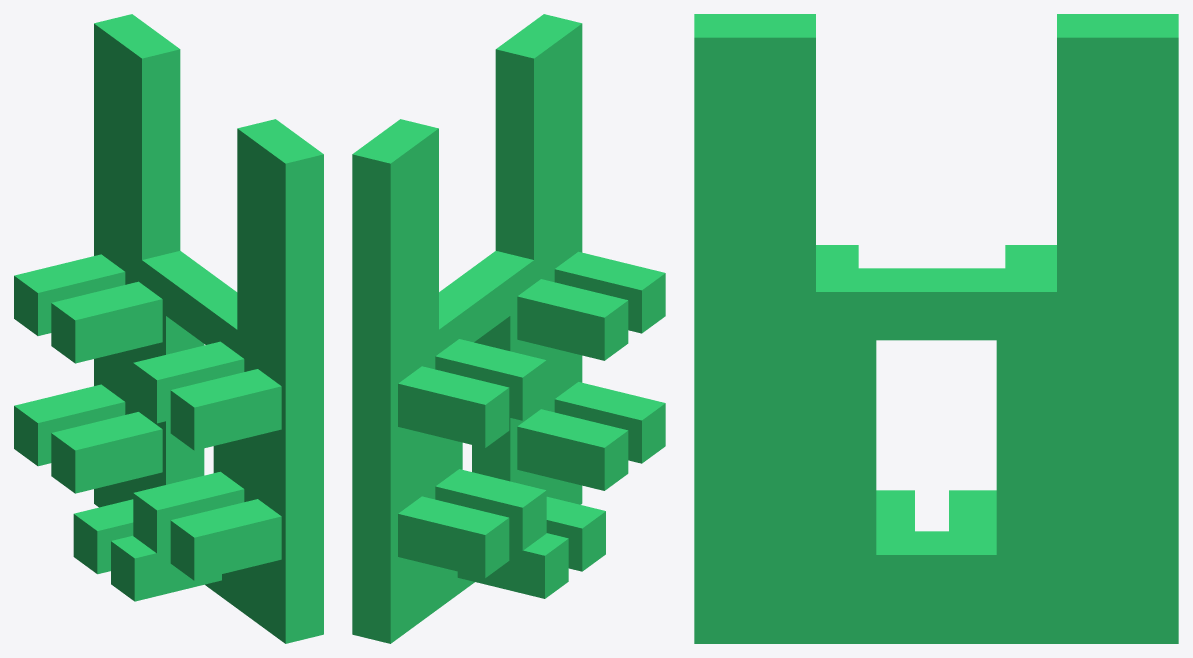
The model's file is forklift_base.dae.
3 renders of one model, left to right at view 1: azimuth 30°, elevation 25°; view 2: azimuth 150°, elevation 25°; view 3: azimuth 270°, elevation 25°, orthographic. The views are drawn at different scales.
Parts seen in each view (by area): view 1: Cube.007; view 2: Cube.007; view 3: Cube.007.
Part boxes in pixels (x1=…): Cube.007: x1=14, y1=14, x2=323, y2=643; Cube.007: x1=352, y1=14, x2=665, y2=643; Cube.007: x1=694, y1=14, x2=1178, y2=643.
Size of the model in its own units: 0.0304 by 0.0804 by 0.1112.
